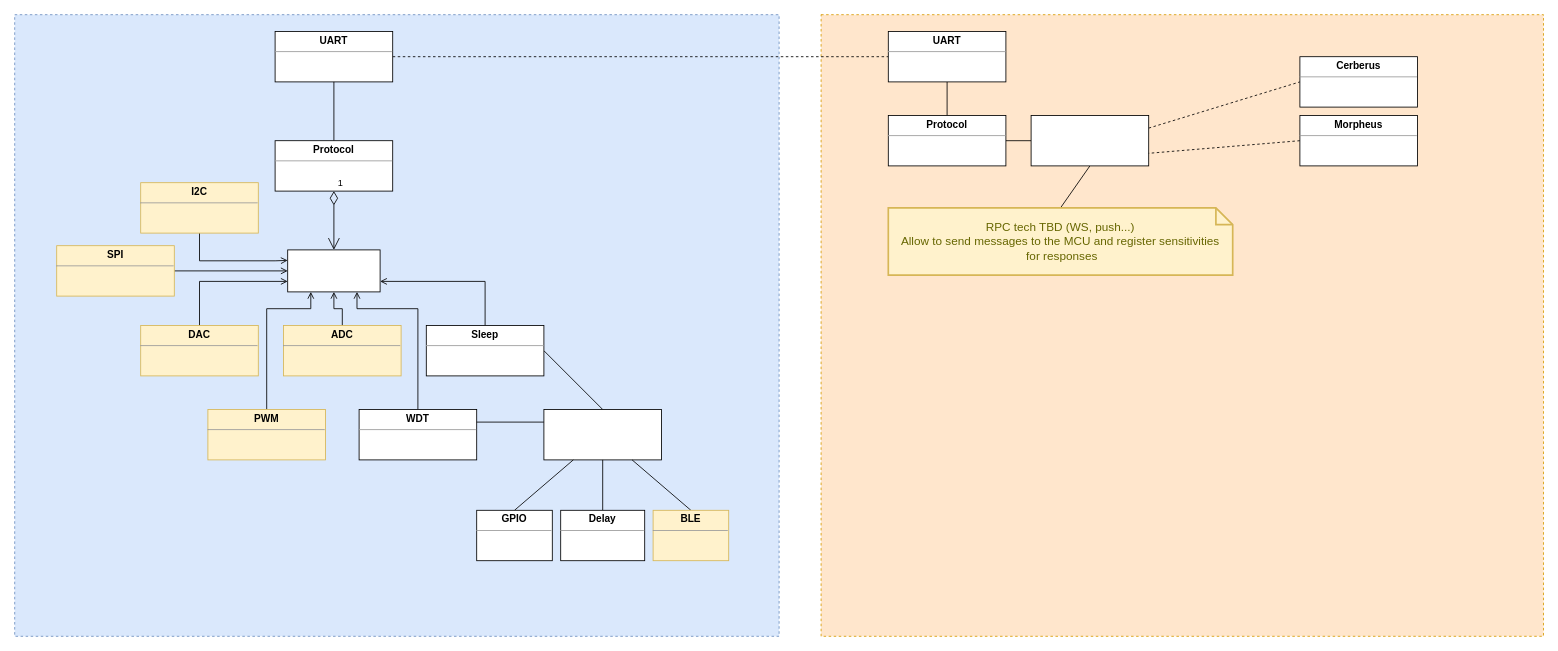
Image size: 1558x651. Some labels were removed from this diagram. Each missing label, with the centre of its shape:
PwrMgmt: the point at 602,434
ServiceRPC: the point at 1089,140
«interface» Service: the point at 333,270
